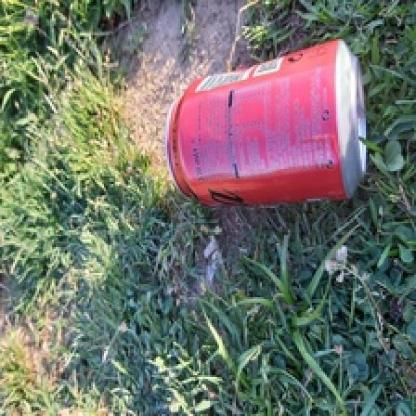Can: (156, 38, 374, 215)
